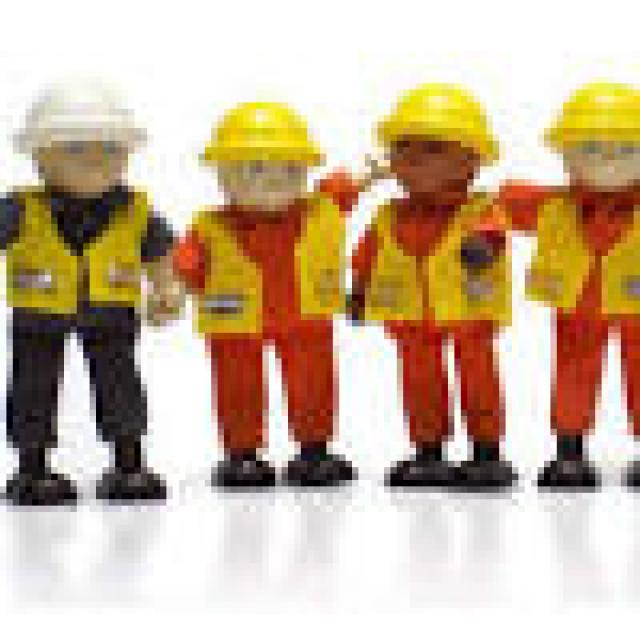Reflective-Jacket: (186, 198, 346, 384), (358, 198, 512, 378), (0, 192, 160, 333)
Safety-Helmet: (371, 70, 506, 166), (537, 64, 640, 160), (198, 96, 326, 173)
